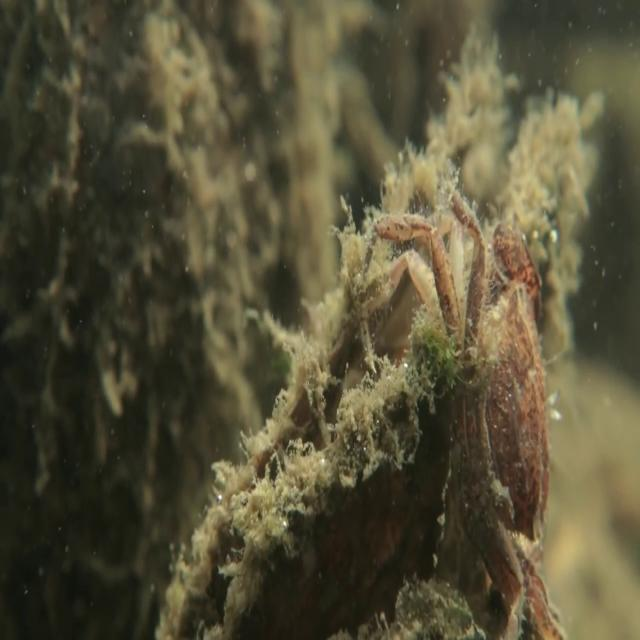Oyster-Open: (155, 146, 471, 639)
